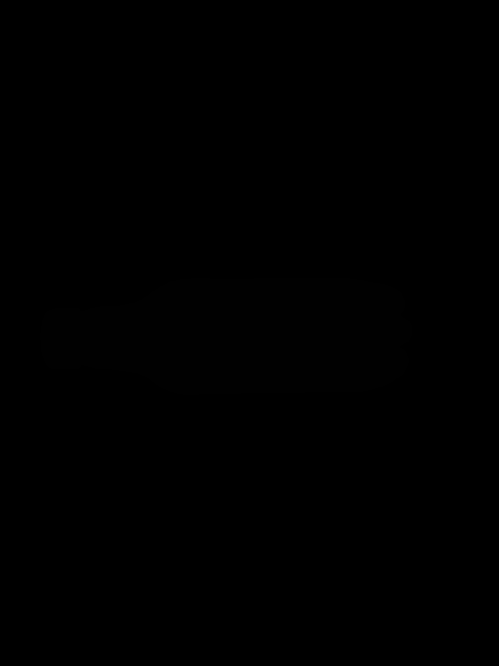water_bottle: (39, 278, 412, 395)
